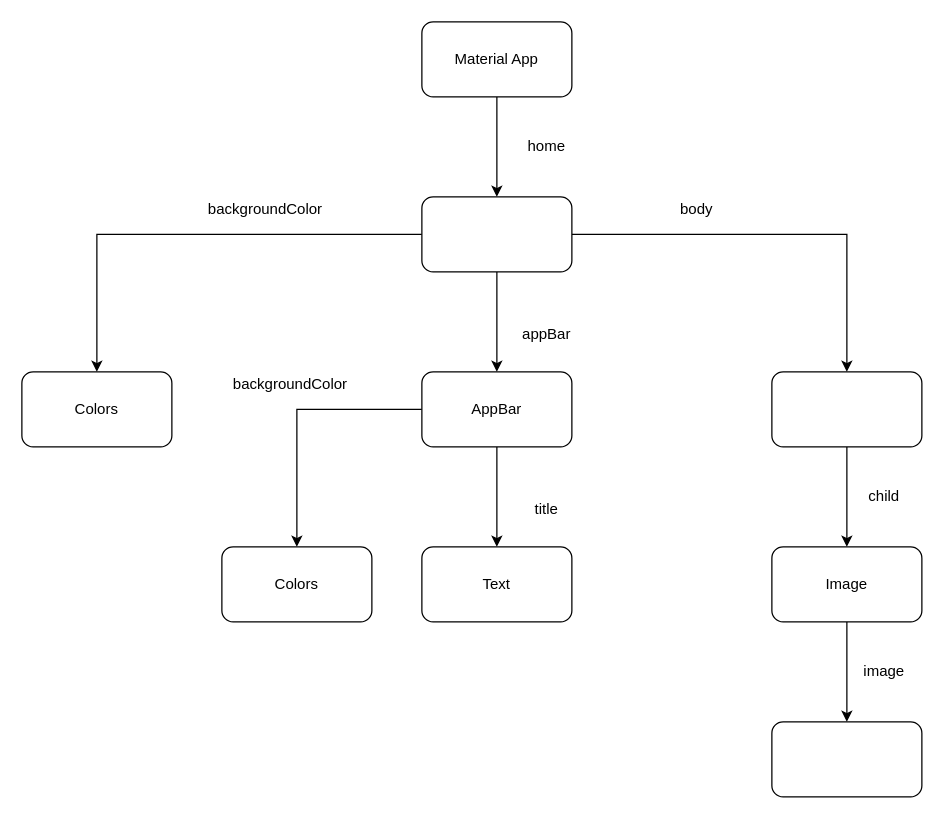
The diagram is 944 pixels wide and 819 high, and some of its shapes have lost their labels. The shapes that lost their labels are listed below. From the top down, each one's box as (x1, y1, x2, y2) in pixels, then its label:
(421, 196, 572, 272): Scaffold
(771, 371, 922, 447): Center
(771, 721, 922, 797): Network Image
